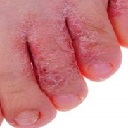Nail Fungal Infection: (35, 61, 66, 87)
